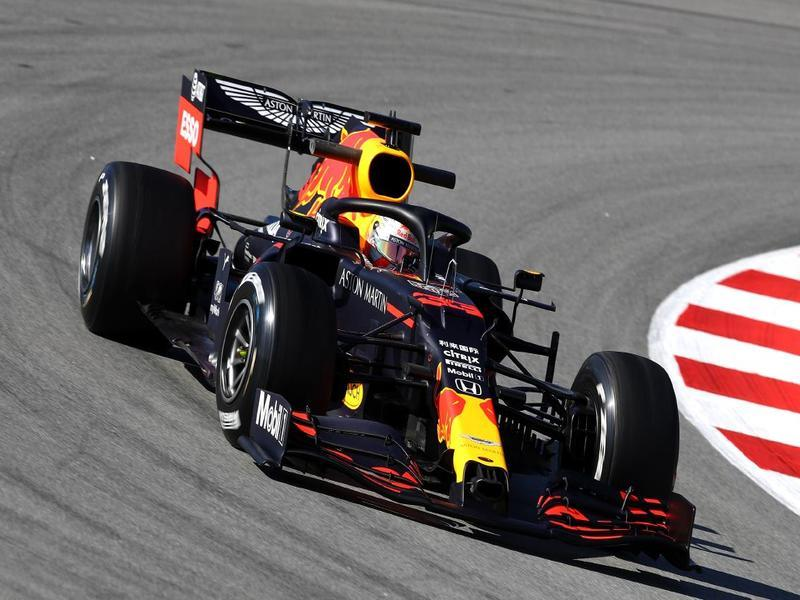racecar: (84, 67, 702, 561)
